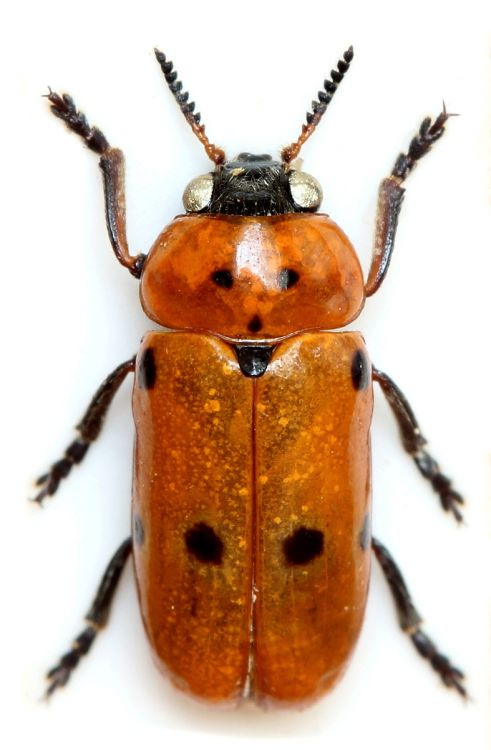Clytra_novempunctata: (26, 25, 479, 726)
